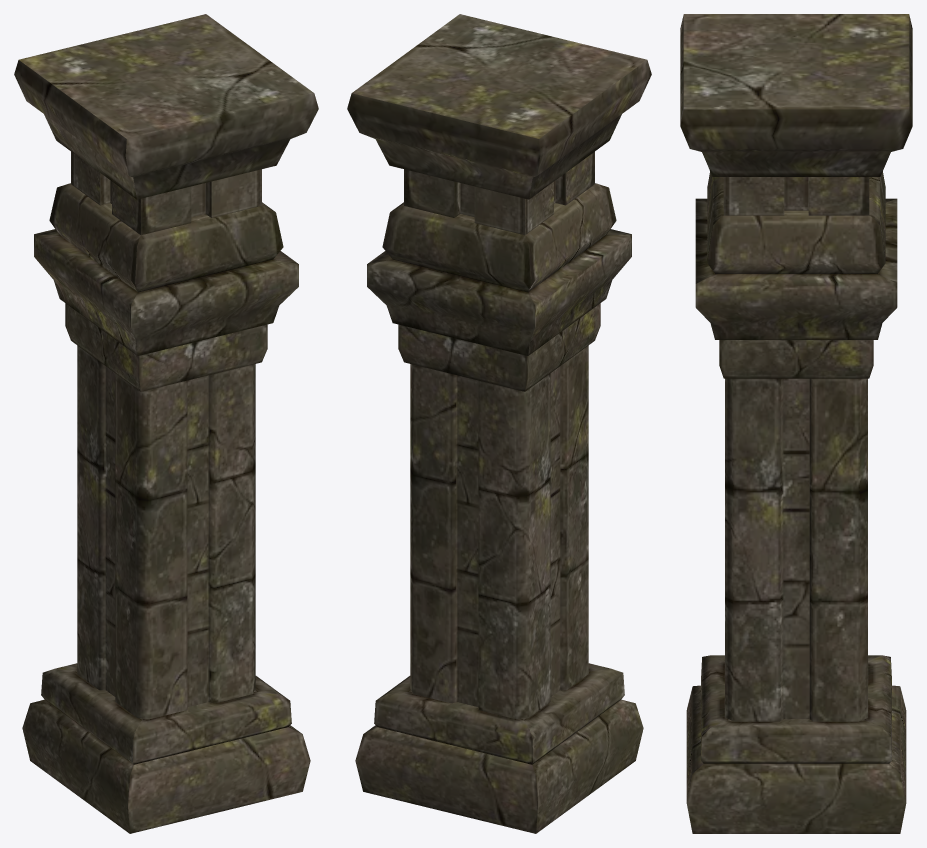
File: Column_B_02-transformed.glb
The picture shows the model from 3 angles, left to right: view 1: azimuth 30°, elevation 25°; view 2: azimuth 150°, elevation 25°; view 3: azimuth 270°, elevation 25°; orthographic projection. The views are drawn at different scales.
Parts seen in each view (by area): view 1: default; view 2: default; view 3: default.
Boxes of the visible parts, x1,y1,x2,y2 form: default: [14, 14, 318, 833]; default: [347, 14, 651, 833]; default: [680, 14, 912, 833].
Size of the model in its own units: 1.73 by 6 by 1.73.
Materials: 1 (1 with a texture image).
